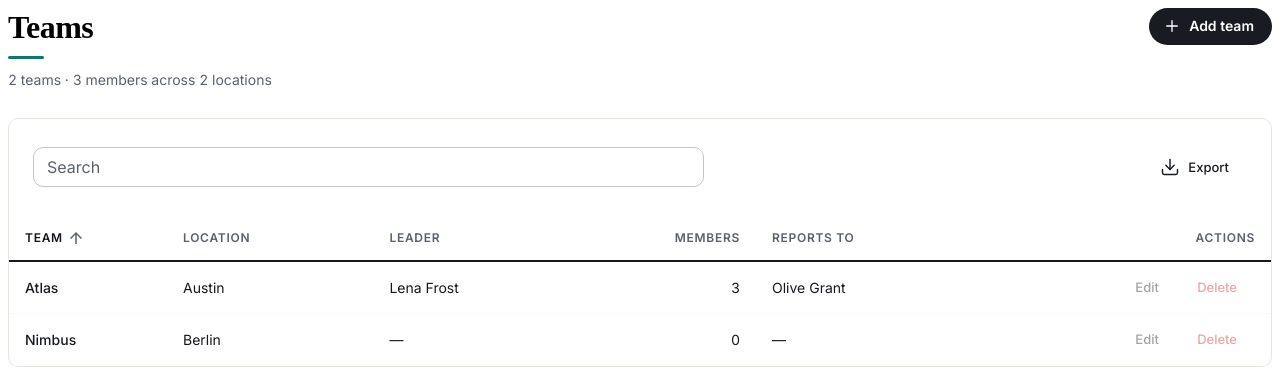
Test: Teams page › searches server-side and keeps the toolbar when nothing matches
Expected: the link "Atlas" is shown, [25,279,58,296]
Type "zz" into the field labelled "Search" at coordinates (368, 167), box [33,147,704,187]
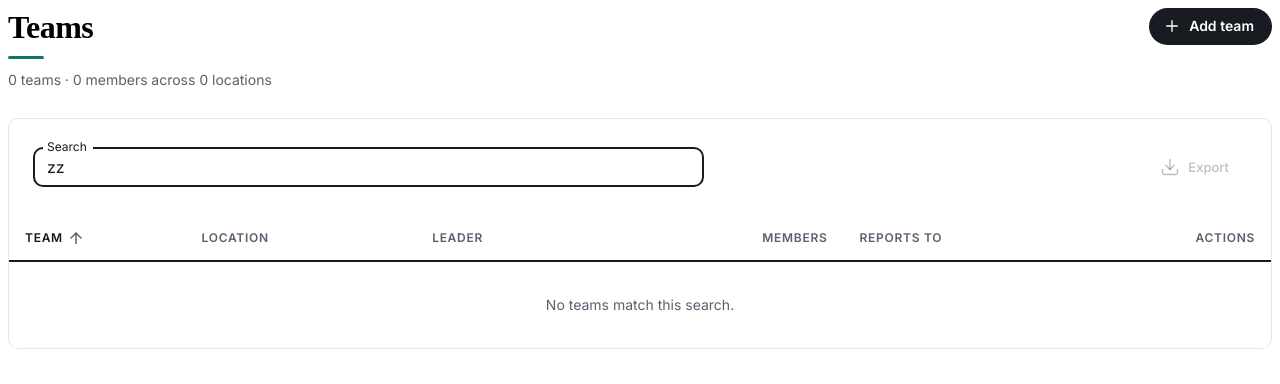
Now the text "No teams match this search." is shown, box [9,261,1271,348]
